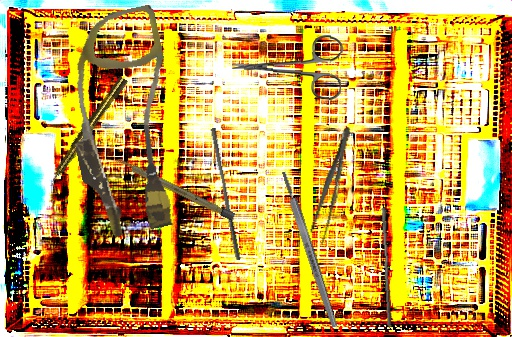Cannula: (49, 3, 199, 242)
Dressing Forceps: (307, 124, 357, 247)
Handpiece: (45, 75, 129, 188)
Iris Scissors: (230, 32, 344, 100)
Pusher: (206, 127, 246, 261), (377, 207, 397, 328)
Scalpel Handle: (279, 170, 339, 329), (114, 156, 237, 222)
